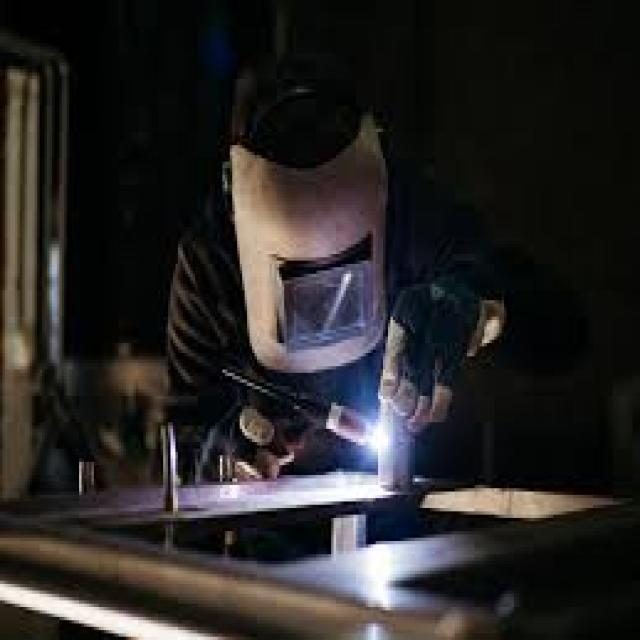welding: (368, 422, 392, 452)
